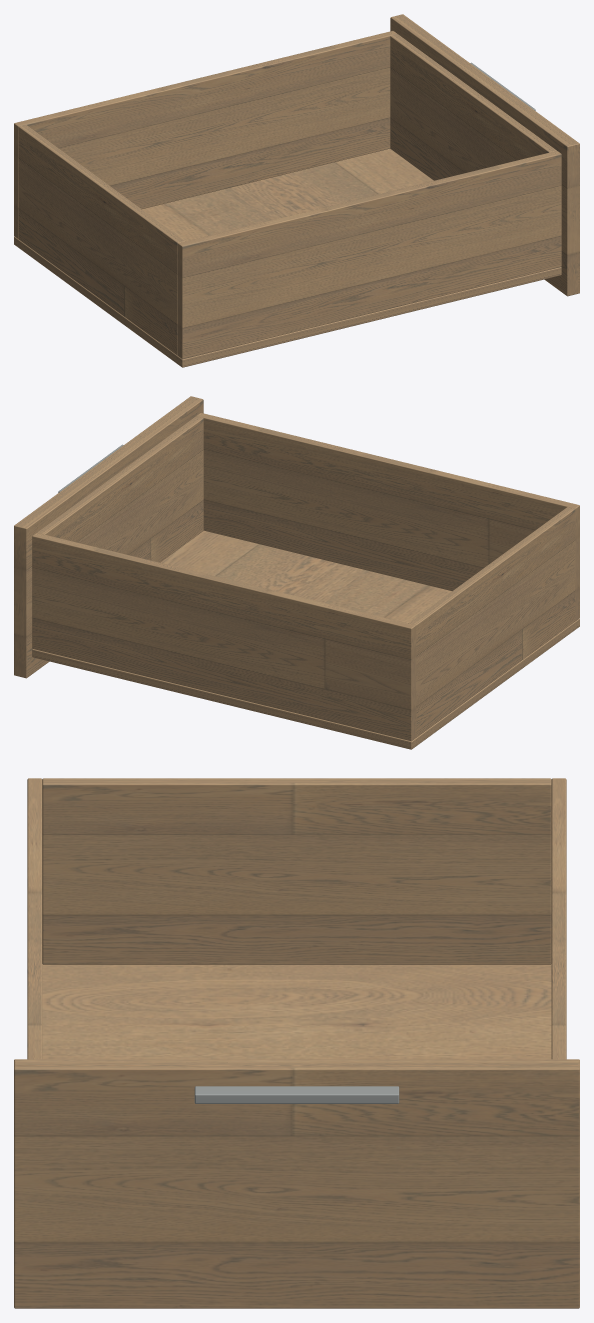
File: kitchen_drawer_2_0.glb
3 renders of one model, top to bottom at view 1: azimuth 30°, elevation 25°; view 2: azimuth 150°, elevation 25°; view 3: azimuth 270°, elevation 25°, orthographic. The views are drawn at different scales.
Visible parts, largest first — view 1: kitchen_drawer_2_0, kitchen_drawer_2_0_bin_0_side_-1, kitchen_drawer_2_0_bin_0_end_-1, kitchen_drawer_2_0_bin_0_floor, kitchen_drawer_2_0_front; view 2: kitchen_drawer_2_0, kitchen_drawer_2_0_bin_0_side_-1, kitchen_drawer_2_0_bin_0_end_-1, kitchen_drawer_2_0_bin_0_floor, kitchen_drawer_2_0_front; view 3: kitchen_drawer_2_0_front, kitchen_drawer_2_0_bin_0_end_-1, kitchen_drawer_2_0_bin_0_floor, kitchen_drawer_2_0, kitchen_drawer_2_0_bin_0_side_-1, kitchen_drawer_2_0_pull.
Part boxes in pixels (bbox=[...]): kitchen_drawer_2_0: bbox=[14, 31, 556, 238]; kitchen_drawer_2_0_bin_0_side_-1: bbox=[178, 151, 561, 359]; kitchen_drawer_2_0_bin_0_end_-1: bbox=[18, 125, 185, 355]; kitchen_drawer_2_0_bin_0_floor: bbox=[14, 148, 561, 367]; kitchen_drawer_2_0_front: bbox=[390, 14, 579, 296]; kitchen_drawer_2_0: bbox=[32, 416, 415, 741]; kitchen_drawer_2_0_bin_0_side_-1: bbox=[196, 413, 579, 620]; kitchen_drawer_2_0_bin_0_end_-1: bbox=[408, 507, 575, 737]; kitchen_drawer_2_0_bin_0_floor: bbox=[32, 530, 579, 749]; kitchen_drawer_2_0_front: bbox=[14, 396, 203, 678]; kitchen_drawer_2_0_front: bbox=[14, 1059, 579, 1308]; kitchen_drawer_2_0_bin_0_end_-1: bbox=[42, 778, 551, 964]; kitchen_drawer_2_0_bin_0_floor: bbox=[42, 964, 551, 1059]; kitchen_drawer_2_0: bbox=[551, 778, 566, 1059]; kitchen_drawer_2_0_bin_0_side_-1: bbox=[27, 778, 42, 1059]; kitchen_drawer_2_0_pull: bbox=[194, 1086, 399, 1103].
Size of the model in its own units: 0.806 by 0.285 by 0.609.
2 materials, 1 textured.
